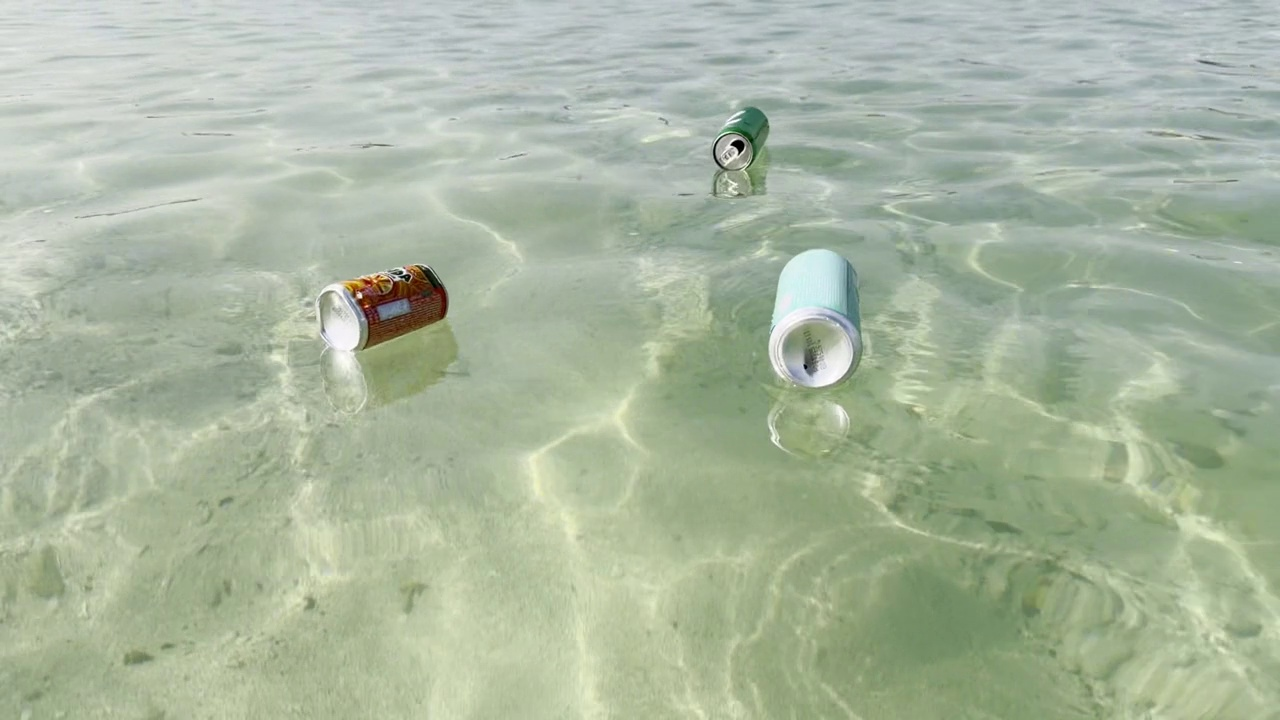debris: (762, 243, 869, 393), (308, 249, 452, 350), (709, 102, 770, 177)
